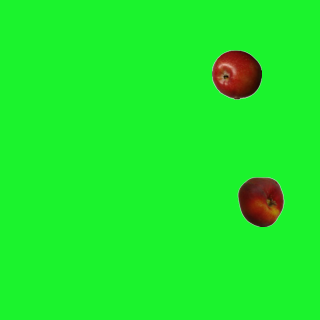Apple Braeburn: (211, 49, 261, 99)
Nectarine Flat: (235, 176, 285, 226)
